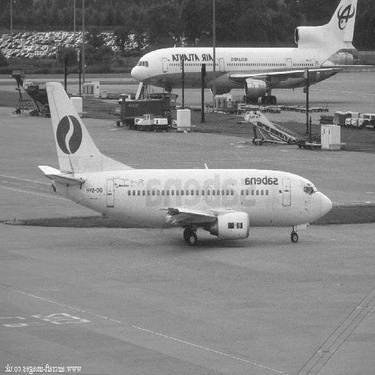airplane: (23, 62, 339, 250), (119, 2, 367, 125)
